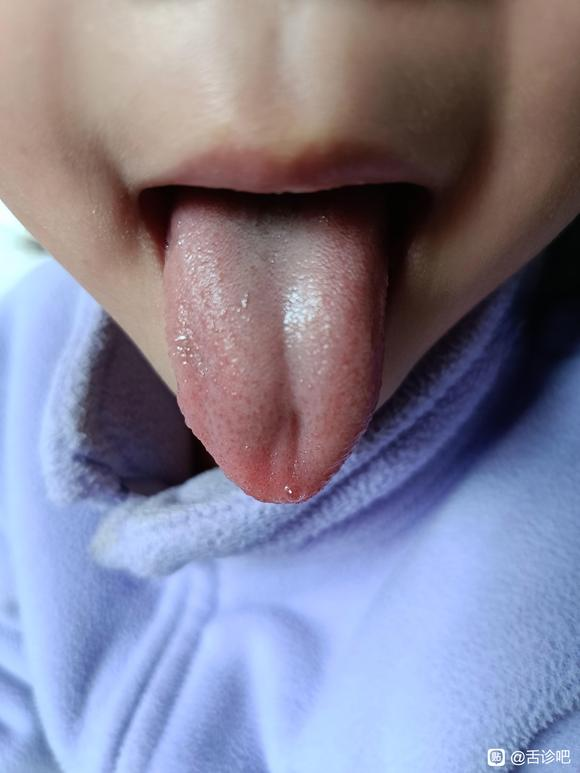baitaishe: (163, 189, 386, 504)
hongshe: (163, 189, 386, 504)
huataishe: (244, 435, 309, 503)
